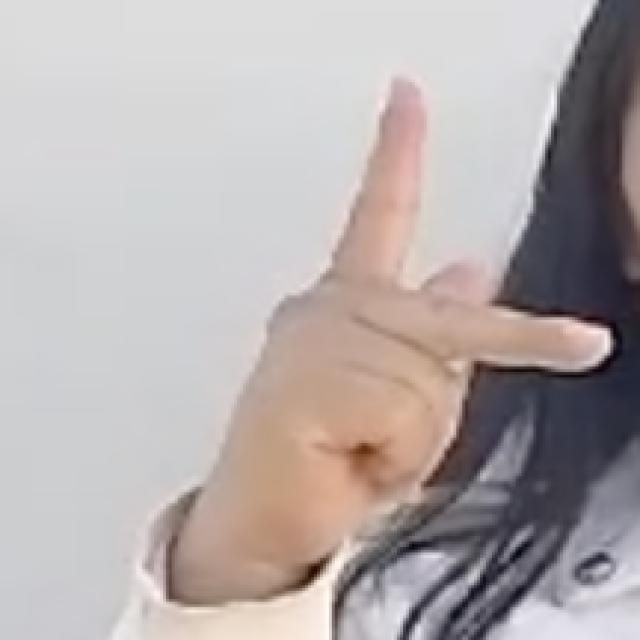P: (171, 67, 624, 570)
